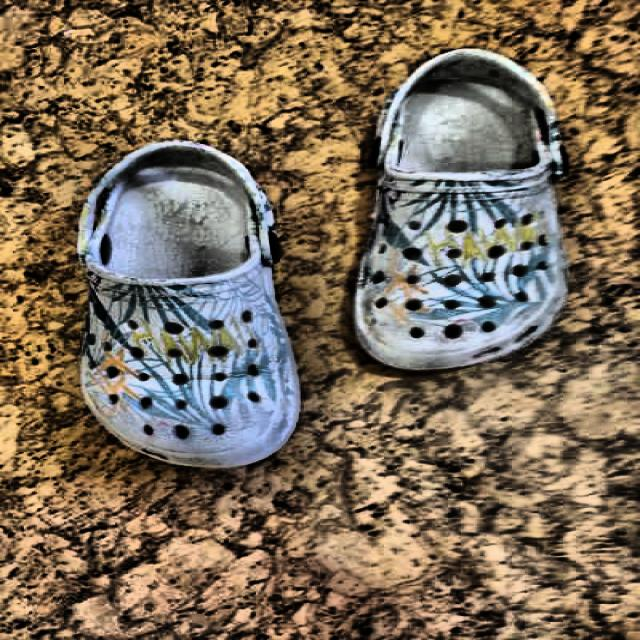shoes: (70, 44, 572, 469)
